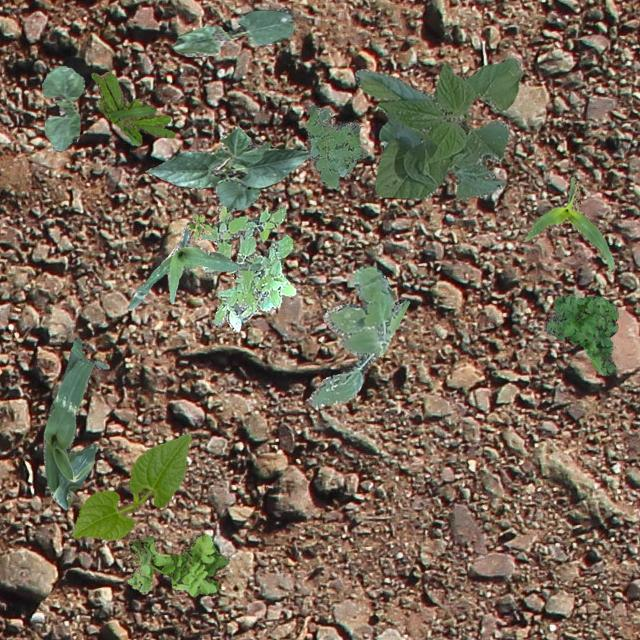crop: (354, 56, 522, 198), (70, 432, 190, 540), (127, 226, 260, 310), (42, 336, 106, 508), (144, 125, 310, 188), (520, 175, 614, 272), (170, 6, 292, 56), (41, 65, 84, 152), (214, 180, 258, 212)
weed: (307, 264, 408, 406), (200, 202, 294, 332), (125, 532, 228, 596), (542, 292, 618, 374), (90, 70, 174, 144), (306, 104, 366, 188), (185, 212, 212, 240)
